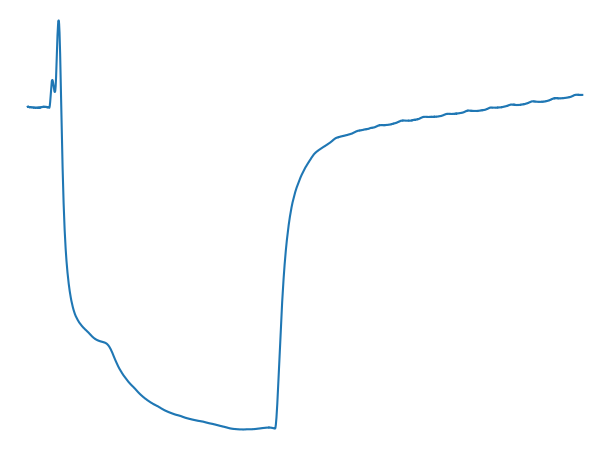decrease: (35, 10, 82, 135)
increase: (253, 406, 283, 434)
